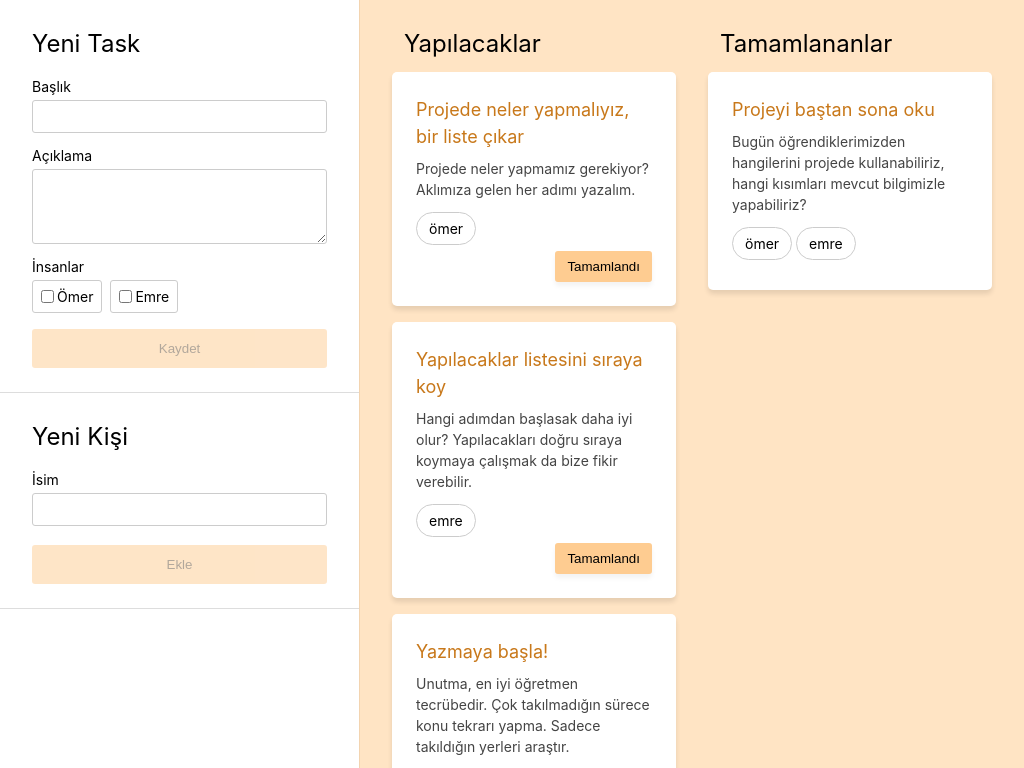
Test: 1.3.2 Taskı 1 kişiye atayıp, o kişi çıkarılınca hata mesajı doğru metin ile çıkıyor.
In the field labelled "İsim": coordinates (180, 510) [32,493,327,526], type "Erdem"
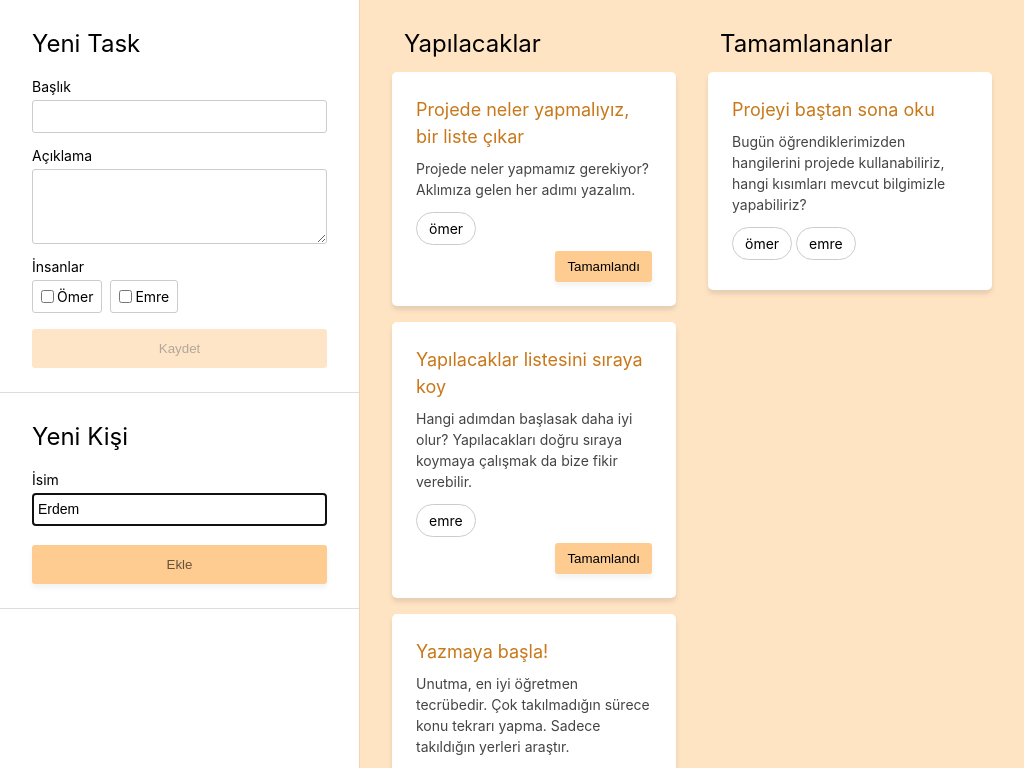
Click the button "Ekle": coordinates (180, 564) [32,545,327,584]
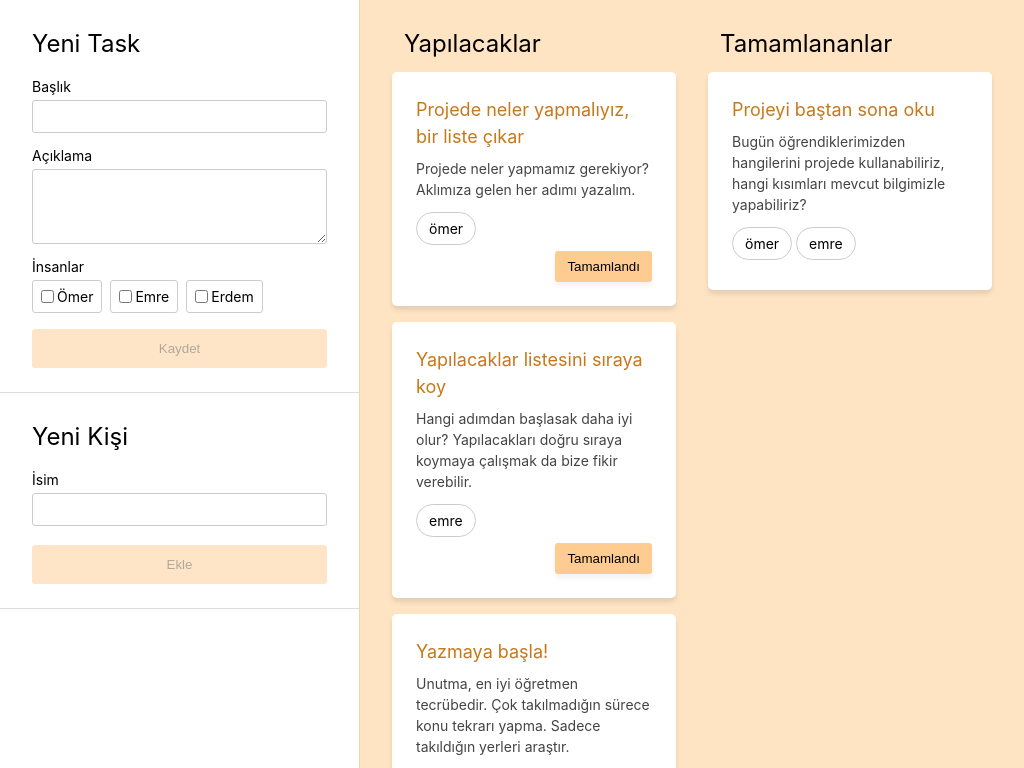
Click the text "Erdem": coordinates (225, 296) [186,280,263,313]
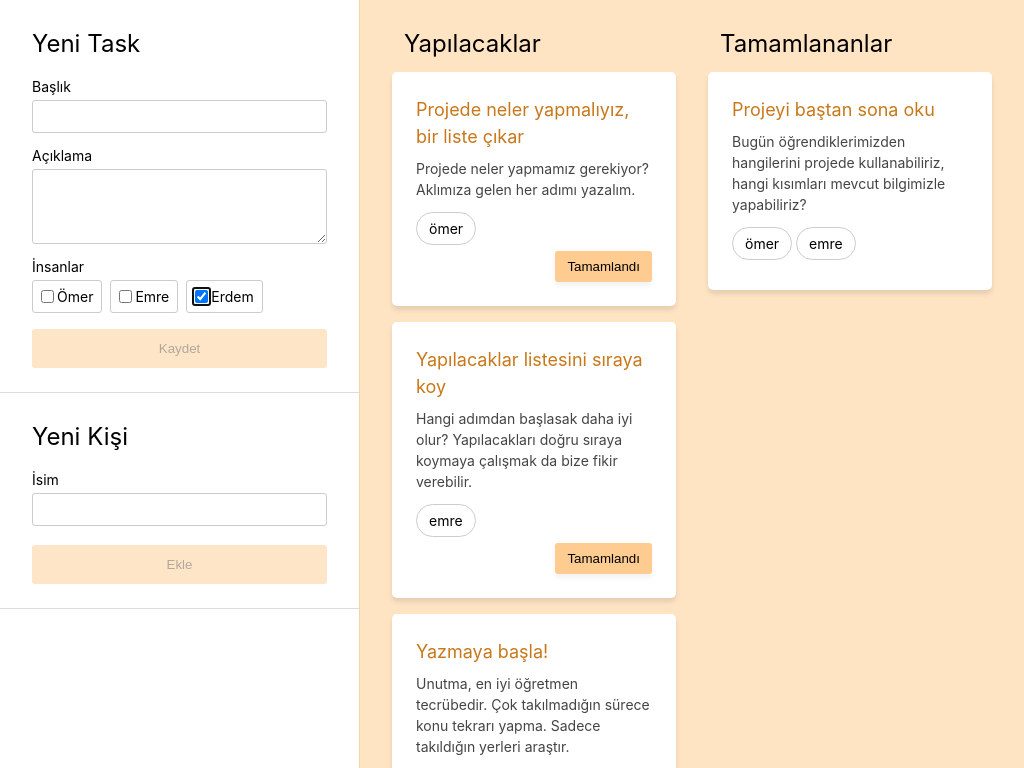
Click the text "Erdem": coordinates (225, 296) [186,280,263,313]
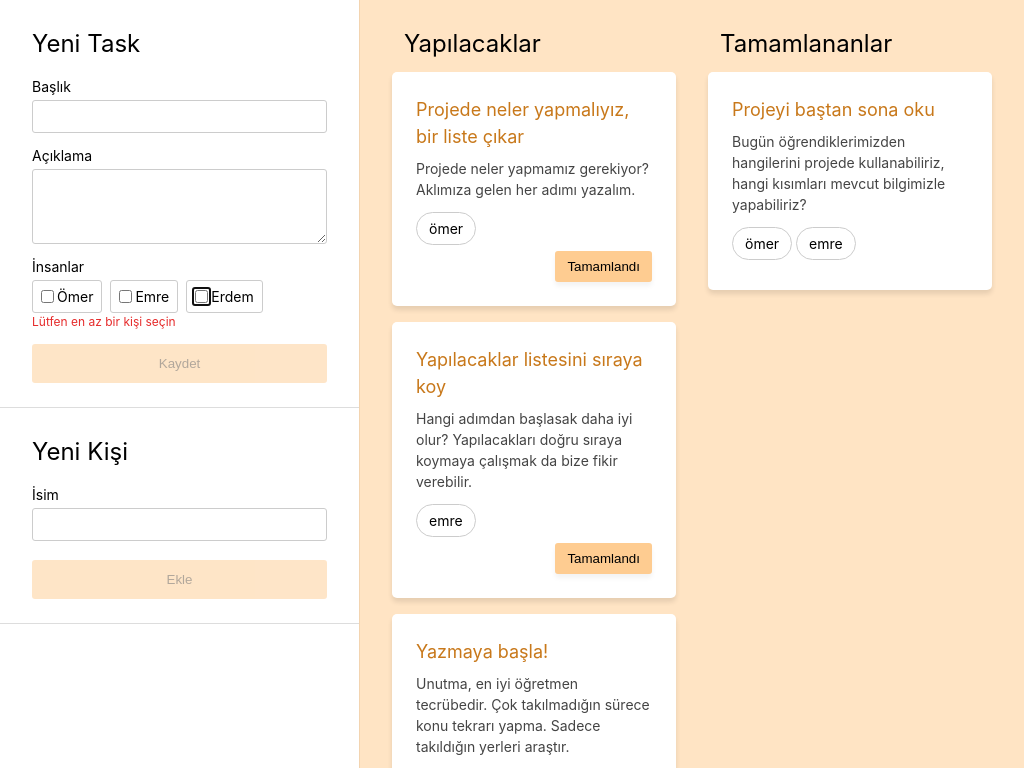
Check: the text "Lütfen en az bir kişi seçin" is shown, box [32,314,176,329]
